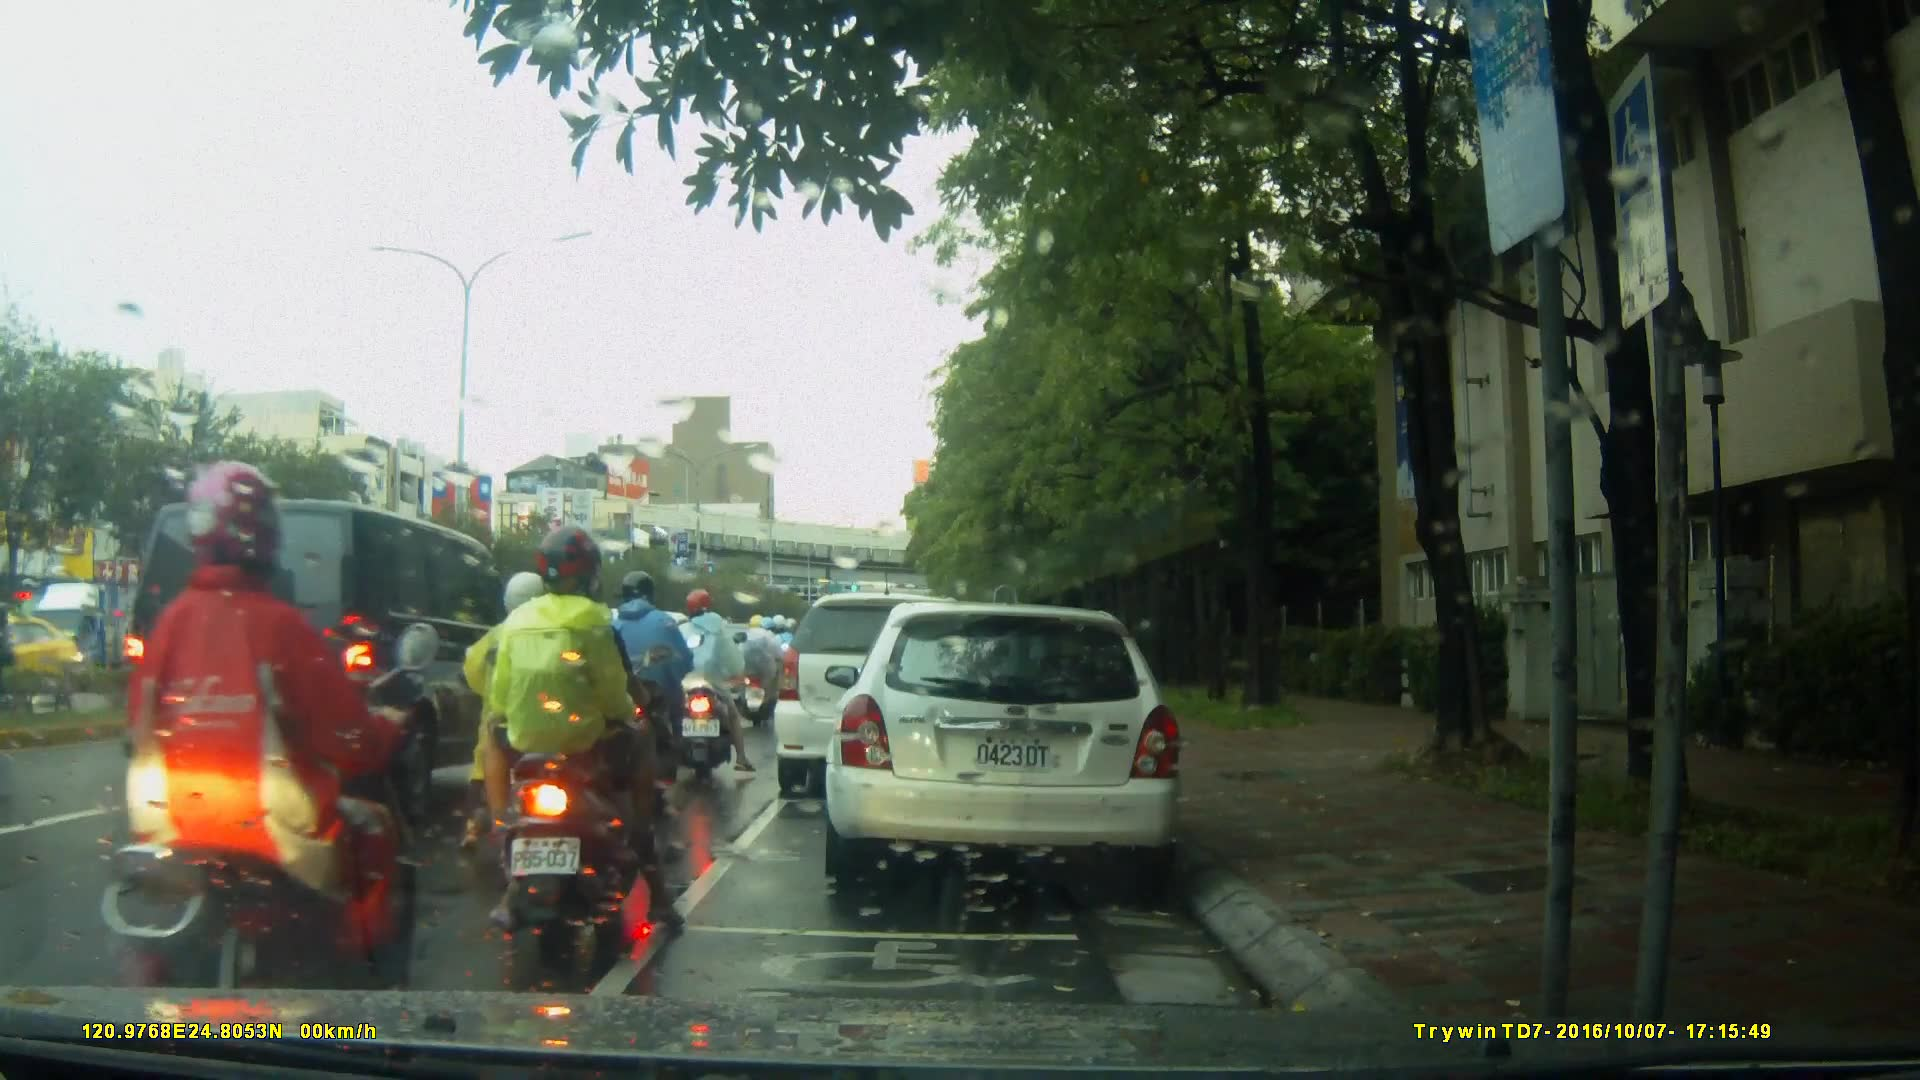rider: (88, 456, 420, 1060), (475, 525, 685, 944), (479, 576, 609, 883), (592, 572, 703, 814), (668, 589, 747, 779), (738, 612, 785, 733)
vehicle: (119, 496, 541, 828), (822, 604, 1188, 883), (774, 595, 995, 802), (481, 603, 710, 766), (20, 576, 199, 697)
